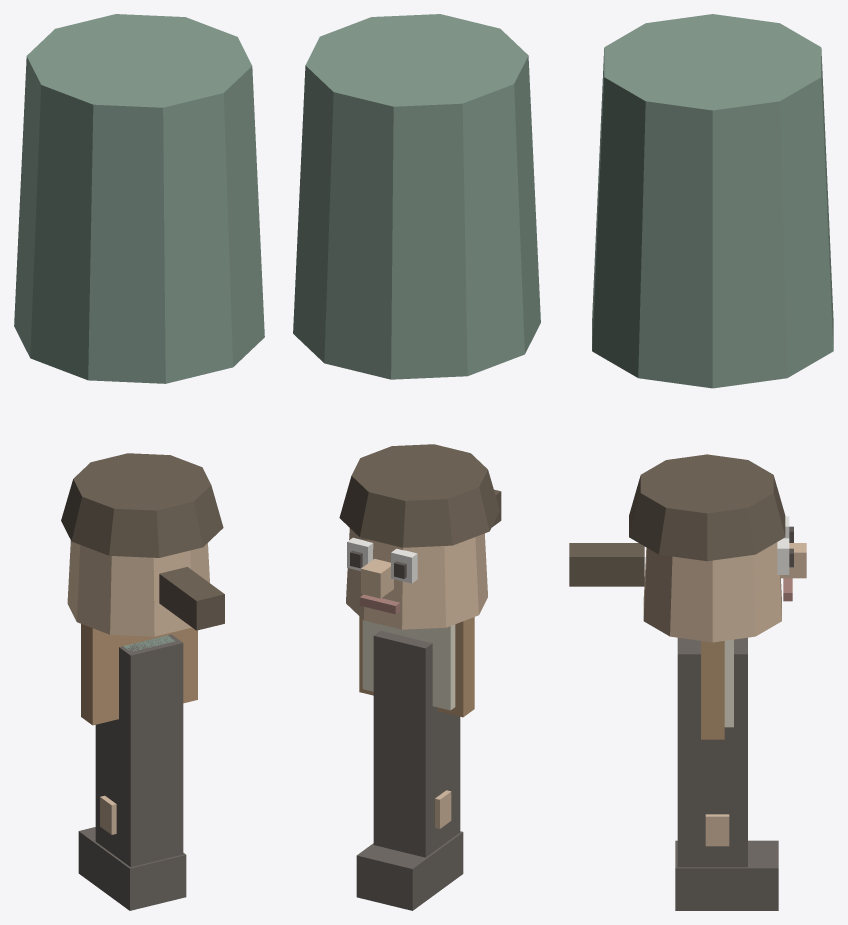
File: npc_wren.glb
The picture shows the model from 3 angles, left to right: view 1: azimuth 30°, elevation 25°; view 2: azimuth 150°, elevation 25°; view 3: azimuth 270°, elevation 25°; orthographic projection.
Visible parts, largest first — view 1: Torso, LimbLegL, Hair, Head, PropLedger, BootL, HairTail, ThumbR; view 2: Torso, LimbLegL, Hair, Head, BootL, PropLedgerPages, PropLedger, Nose, EyeWhiteL, ThumbR, EyeWhiteR, Mouth; view 3: Torso, Hair, LimbLegL, Head, BootL, HairTail, PropLedger, PropLedgerPages, ThumbL, Nose.
Part boxes in pixels (x1,y1,x2,y2): Torso: [14, 14, 264, 383]; LimbLegL: [95, 634, 183, 866]; Hair: [61, 453, 223, 557]; Head: [67, 540, 209, 636]; PropLedger: [81, 624, 197, 725]; BootL: [78, 827, 186, 910]; HairTail: [159, 567, 224, 630]; ThumbR: [100, 795, 116, 834]; Torso: [293, 14, 540, 379]; LimbLegL: [373, 630, 460, 857]; Hair: [339, 444, 499, 547]; Head: [346, 528, 487, 629]; BootL: [356, 831, 463, 910]; PropLedgerPages: [362, 619, 455, 710]; PropLedger: [359, 616, 474, 717]; Nose: [361, 558, 393, 598]; EyeWhiteL: [391, 548, 417, 583]; ThumbR: [435, 790, 451, 828]; EyeWhiteR: [347, 537, 373, 570]; Mouth: [359, 594, 400, 614]; Torso: [592, 14, 833, 388]; Hair: [629, 454, 785, 561]; LimbLegL: [677, 637, 747, 867]; Head: [643, 542, 781, 642]; BootL: [675, 840, 778, 910]; HairTail: [569, 543, 644, 586]; PropLedger: [701, 641, 724, 739]; PropLedgerPages: [724, 639, 733, 727]; ThumbL: [705, 814, 729, 846]; Nose: [780, 543, 806, 578].
Size of the model in its own units: 0.54 by 1.96 by 0.5618.
